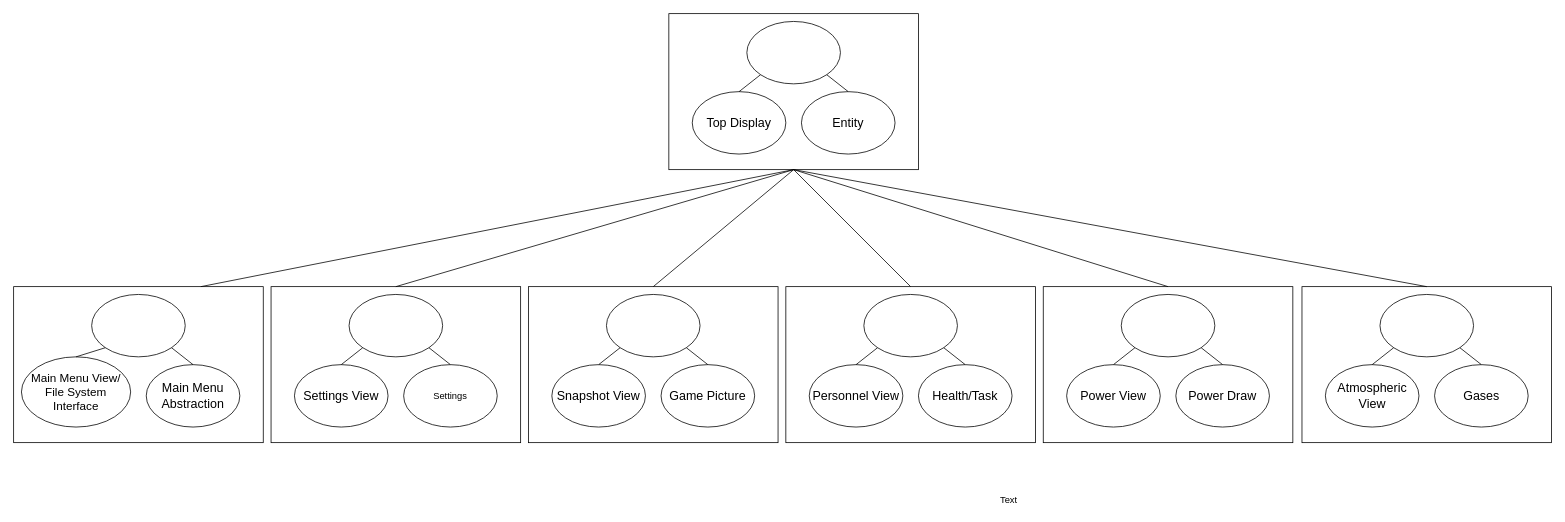
The diagram is 1565 pixels wide and 522 high, and some of its shapes have lost their labels. The shapes that lost their labels are listed below. From the top down, each one's centre as x and y in pixels, then its label:
[793,52]: Top Controller
[138,325]: Main Menu Controller
[395,325]: Settings Controller
[653,325]: Snapshot Controller
[910,325]: Personnel Controller
[1167,325]: Power Controller
[1426,325]: Atmosphere Controller
